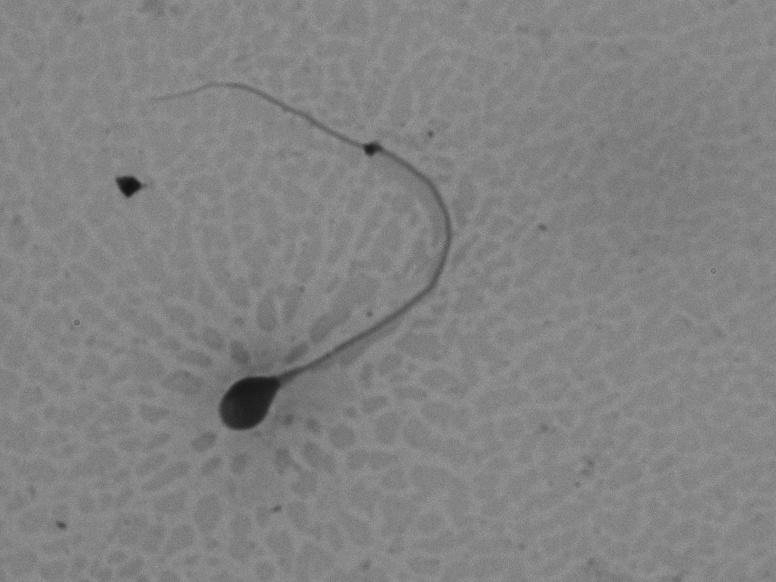Abnormal: (59, 56, 479, 456)
